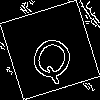Q: (25, 25, 83, 87)
